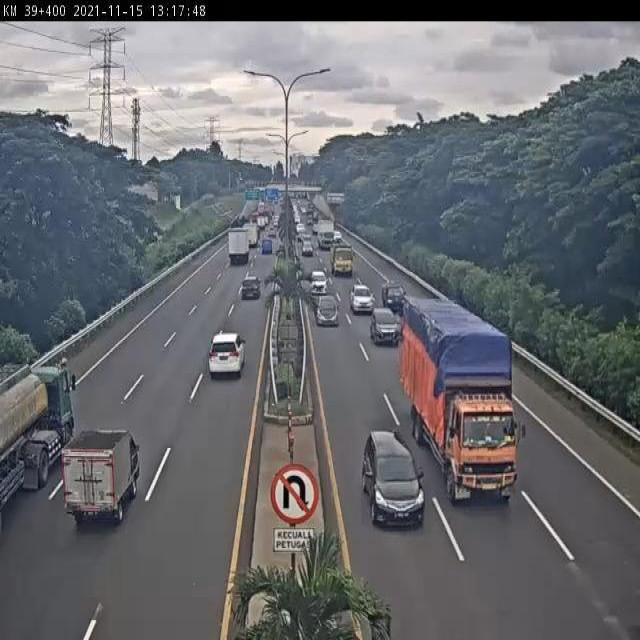car: (359, 427, 427, 532), (208, 331, 247, 378), (369, 307, 402, 348), (313, 292, 342, 329), (348, 280, 376, 313), (308, 268, 329, 296), (240, 275, 262, 300)
truck-m-: (401, 293, 529, 503), (328, 243, 356, 276)
truck-s-: (64, 428, 141, 533), (381, 283, 410, 317)
truck-xl-: (0, 360, 73, 509)
